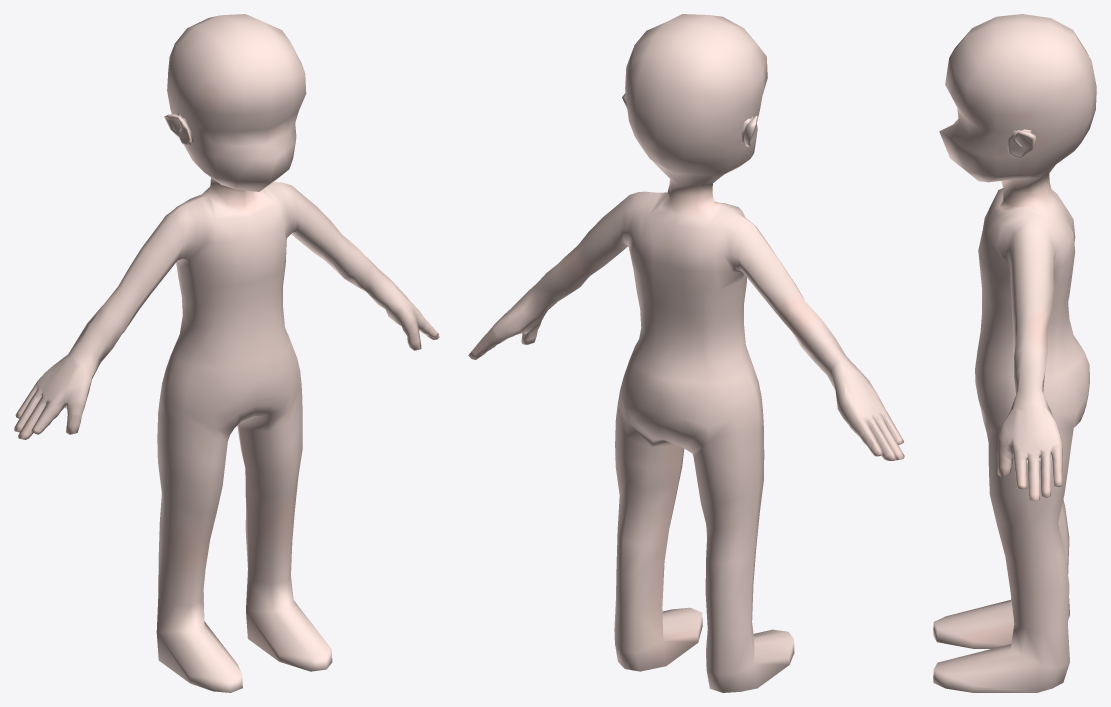
File: __MOCK__Char_Thief_FourHeads.fbx
3 renders of one model, left to right at view 1: azimuth 30°, elevation 25°; view 2: azimuth 150°, elevation 25°; view 3: azimuth 270°, elevation 25°, orthographic. The views are drawn at different scales.
Parts seen in each view (by area): view 1: __MOCK__Char_Thief_FourHeads; view 2: __MOCK__Char_Thief_FourHeads; view 3: __MOCK__Char_Thief_FourHeads.
Boxes of the visible parts, x1=… form: __MOCK__Char_Thief_FourHeads: x1=14, y1=14, x2=439, y2=692; __MOCK__Char_Thief_FourHeads: x1=468, y1=14, x2=904, y2=692; __MOCK__Char_Thief_FourHeads: x1=933, y1=14, x2=1096, y2=692.
Size of the model in its own units: 211 by 303 by 70.15.
Materials: 2 (2 with a texture image).
